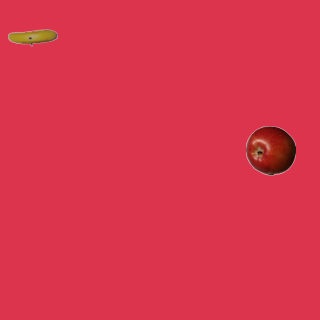Apple Braeburn: (245, 125, 295, 175)
Banana: (7, 12, 57, 62)
